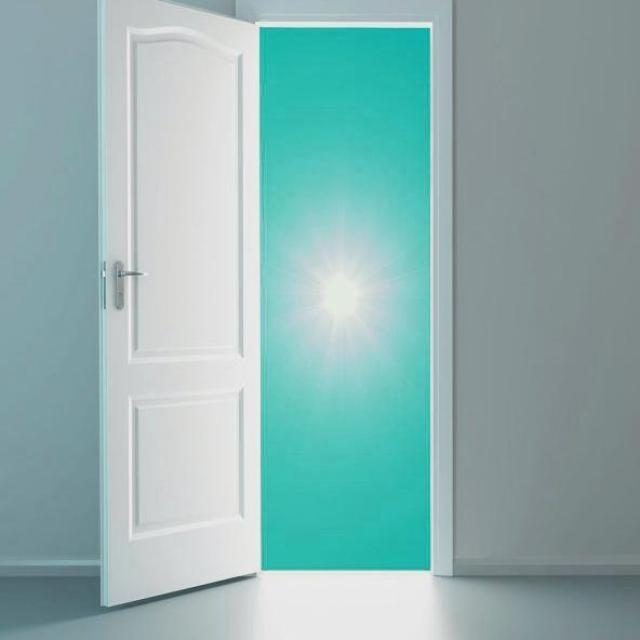door: (98, 0, 262, 607)
